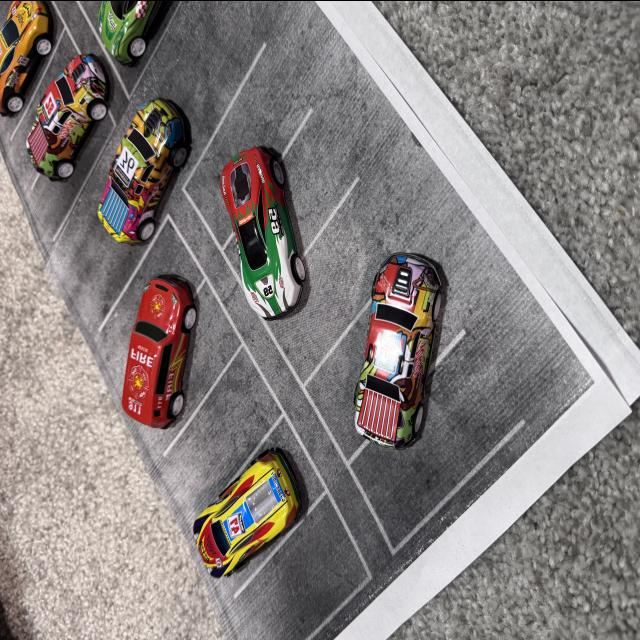car: (156, 402, 322, 612), (341, 240, 467, 477), (216, 120, 324, 382), (101, 273, 236, 482), (35, 56, 119, 248), (98, 97, 208, 239), (63, 0, 186, 87), (0, 0, 57, 114)
